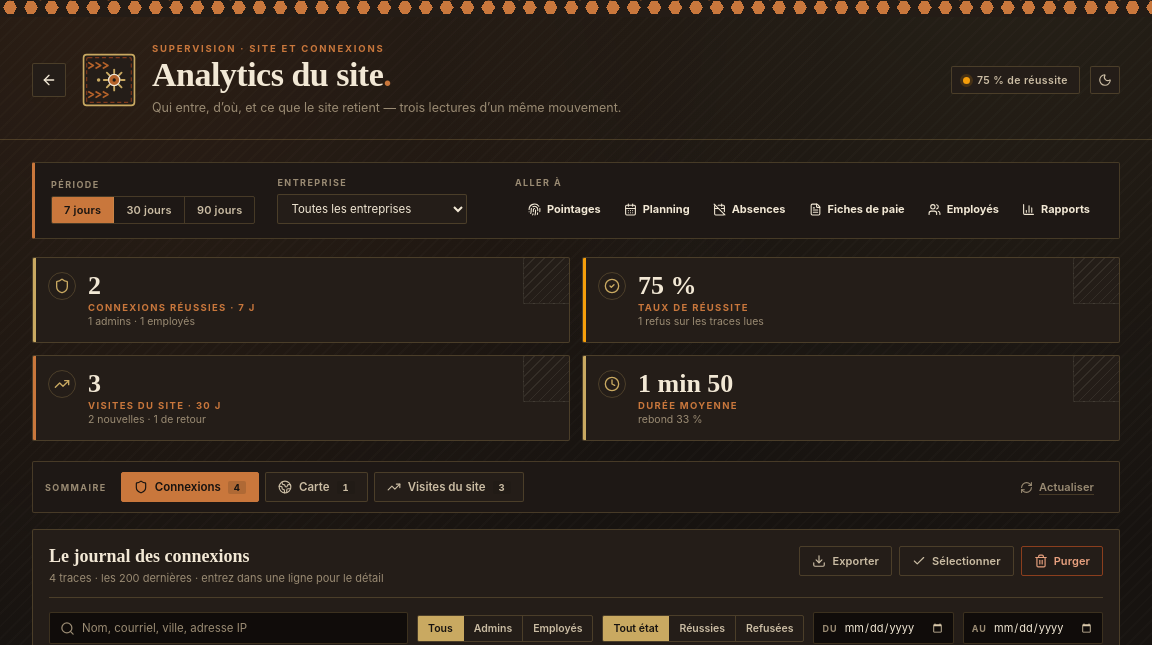
it: 5. les visites du site › change de vue et affiche les cartouches de toile
The width and height of the screenshot is (1152, 645).
Click the tab with class "an-onglet" showing "Visites du site 3".
click(449, 487)  # box 374,472 -> 524,502
(page scrolled)
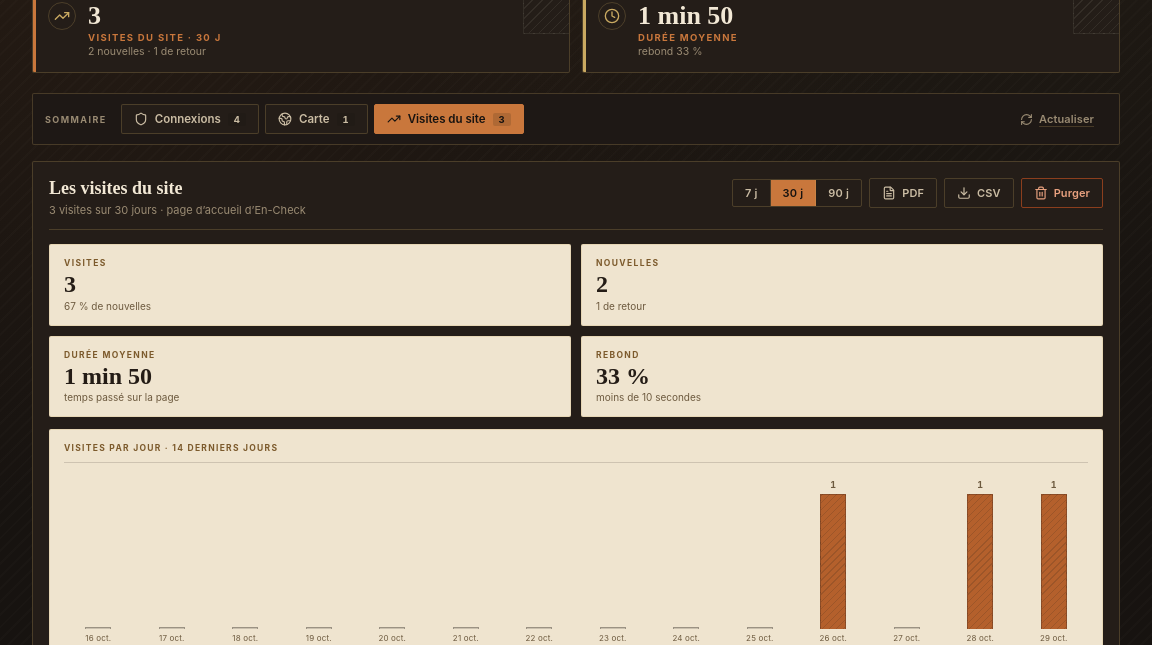
Expected: the number of elements with class "an-cartouche-valeur" is 4, 64,271 -> 76,297; 596,271 -> 608,297; 64,363 -> 152,389; 596,363 -> 650,389
Expected: the element with class "an-cartouche" shows "Visites", 64,258 -> 107,268
Expected: the number of elements with class "an-graphique-colonne" is 14
